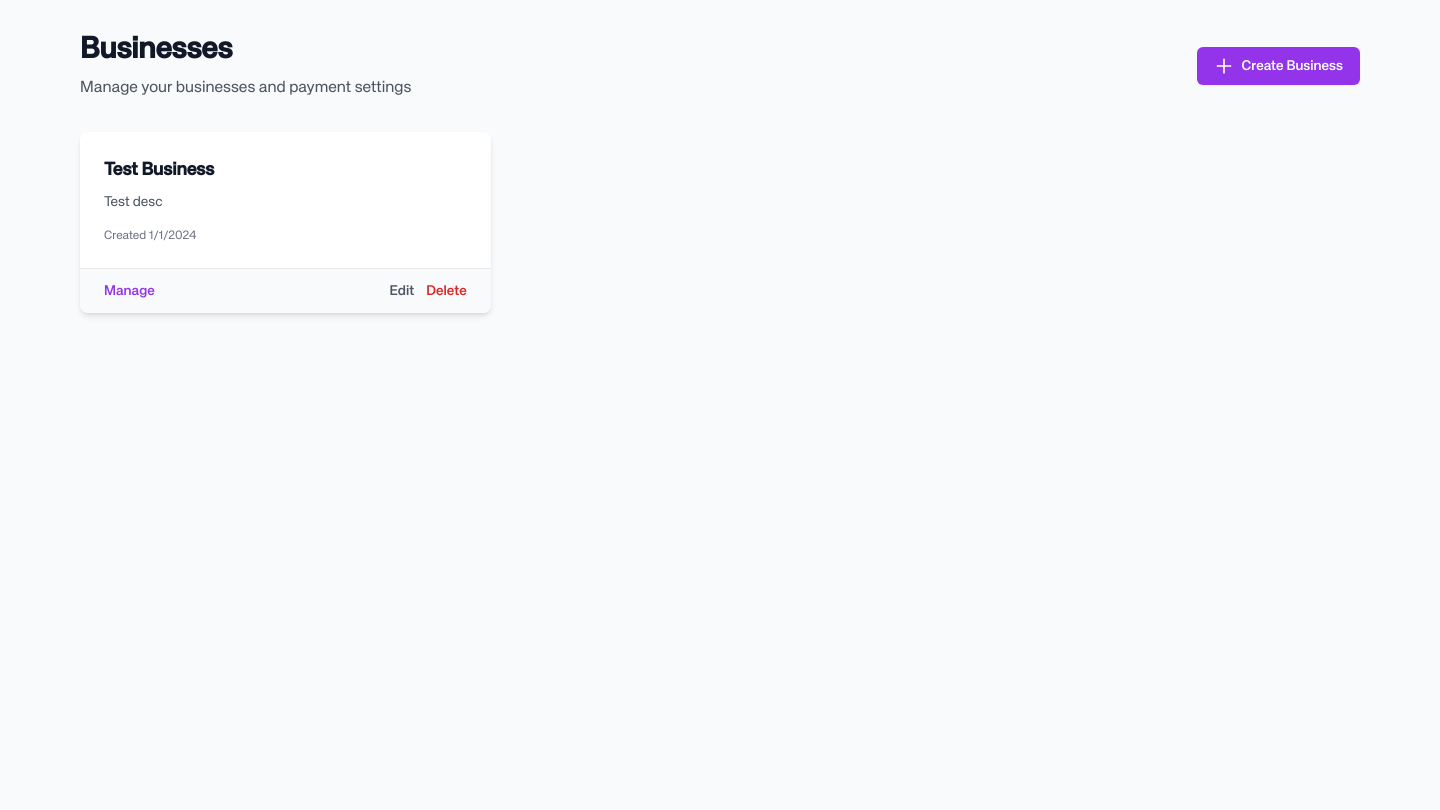
Test: BusinessesPage › Edit Business › should open edit modal with pre-filled data
The image size is (1440, 810).
Expected: the heading "Test Business" is shown, [104,161,214,179]
Click the button "Edit": [402, 291] box [390,281,414,301]
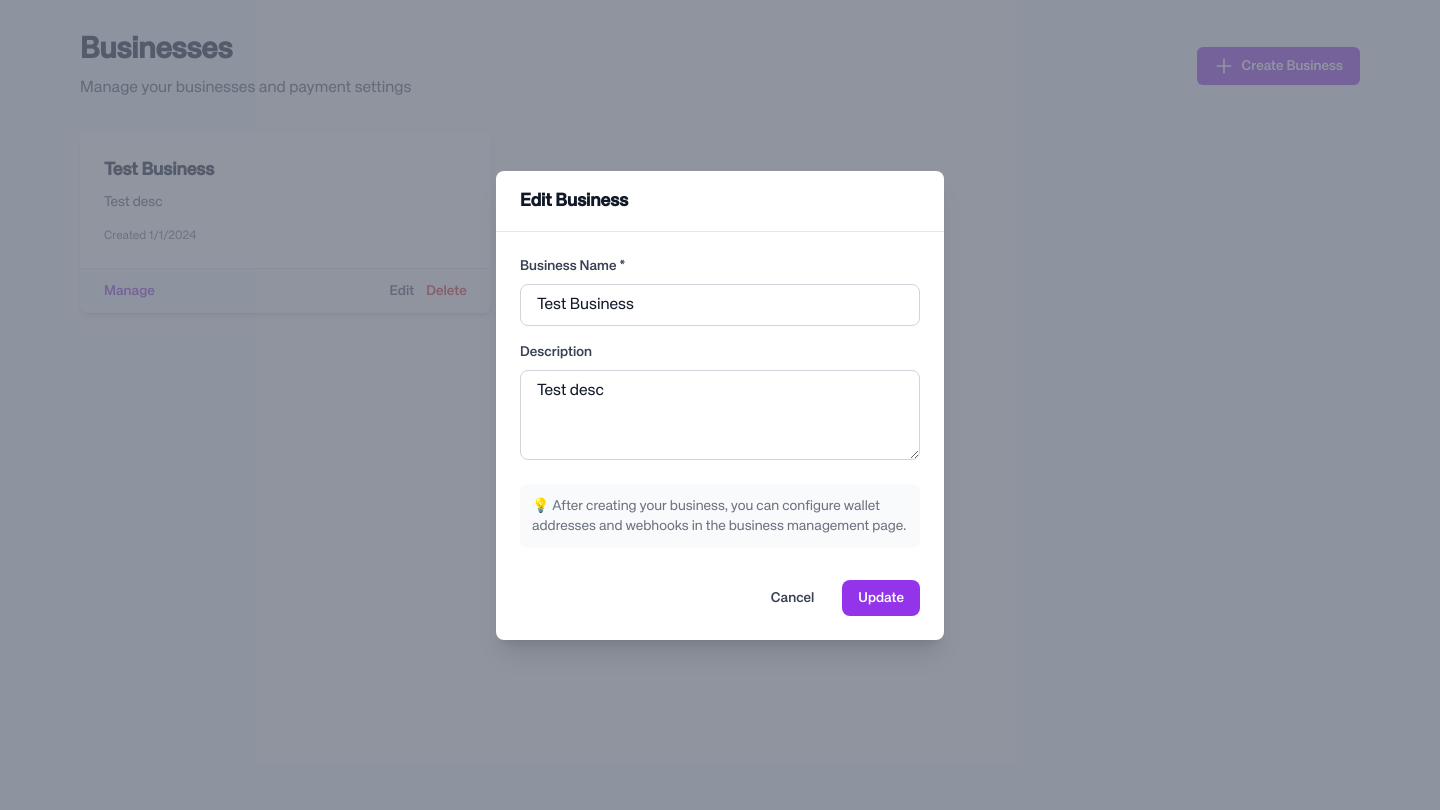
Result: the field labelled "Business Name *" holds "Test Business" at [520,284,920,326]
